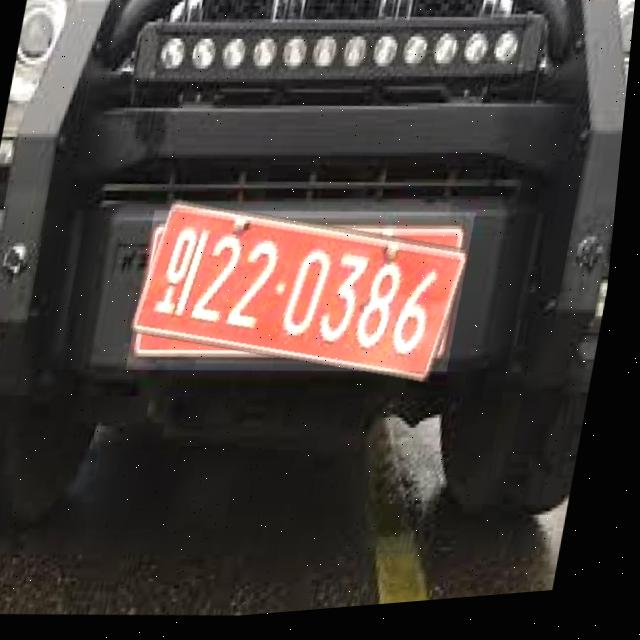LicensePlate: (131, 192, 483, 400)
